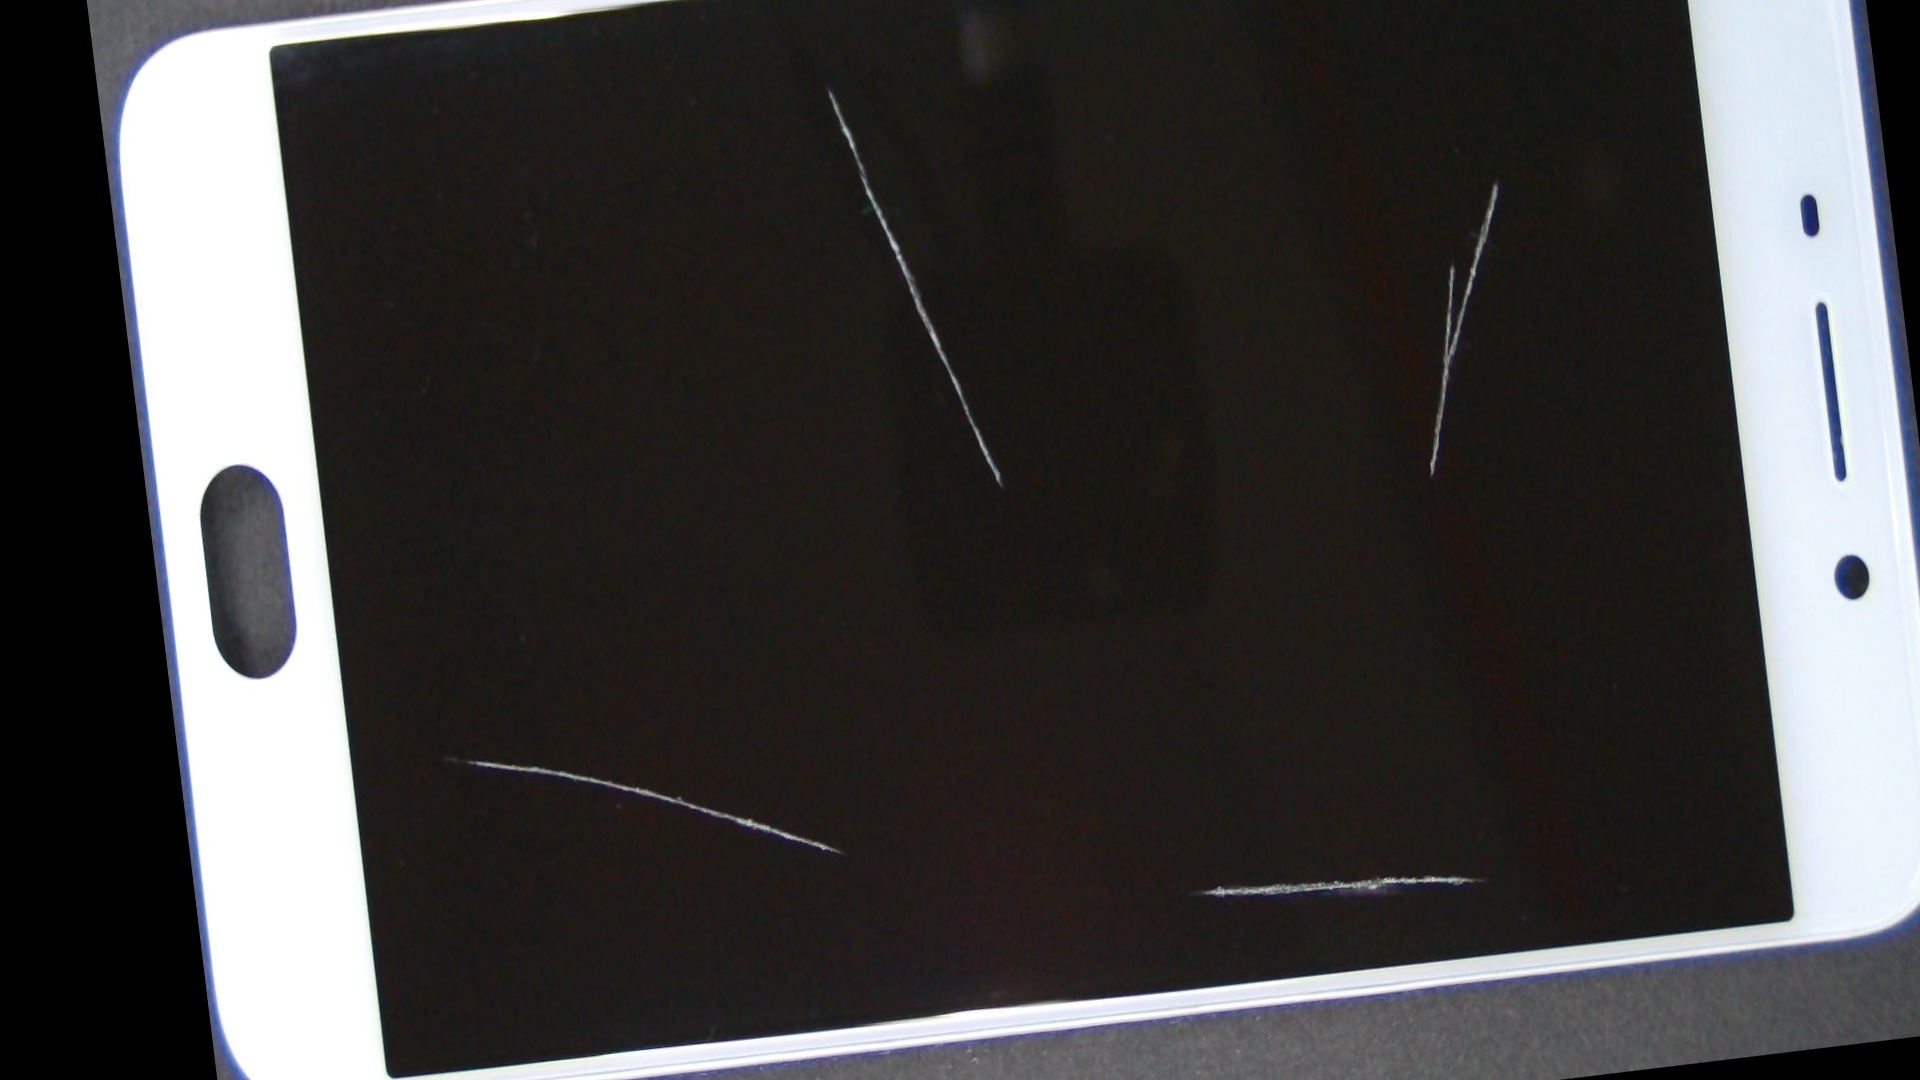oil: (650, 301, 1751, 1080), (789, 0, 1905, 459), (264, 326, 626, 1080), (455, 0, 1200, 239)
